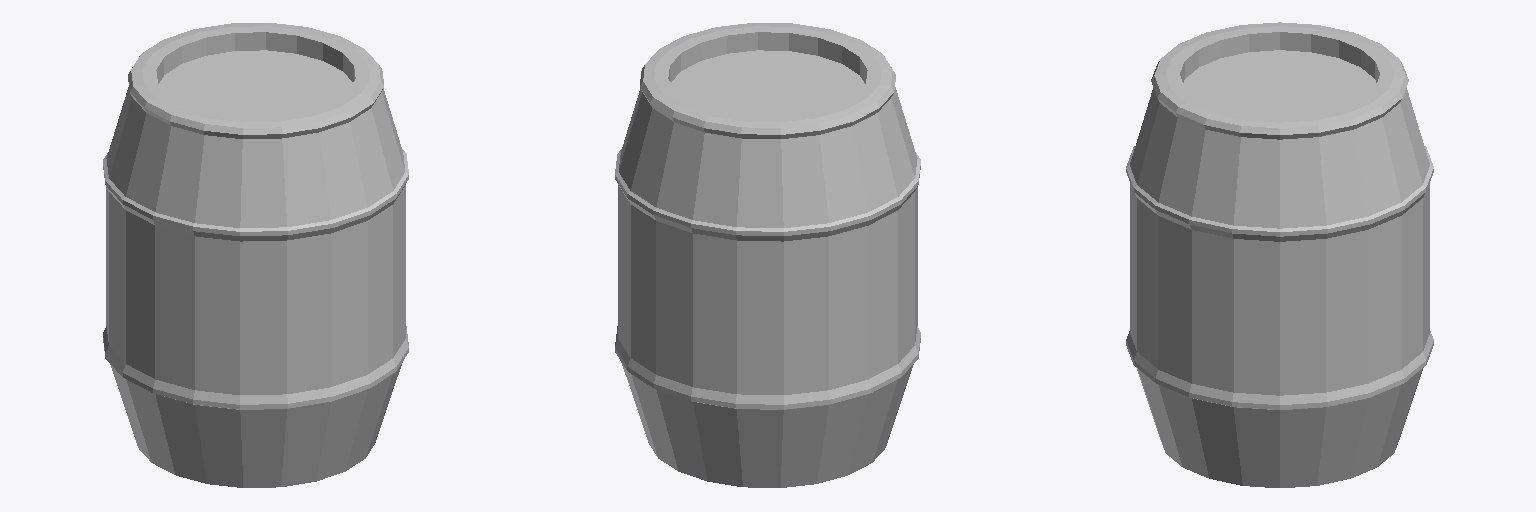
The model's file is Outline_Barrel_Geo.obj.
3 renders of one model, left to right at view 1: azimuth 30°, elevation 25°; view 2: azimuth 150°, elevation 25°; view 3: azimuth 270°, elevation 25°, orthographic.
Visible parts, largest first — view 1: Props_Barrel_Geo:pCylinder3; view 2: Props_Barrel_Geo:pCylinder3; view 3: Props_Barrel_Geo:pCylinder3.
Boxes of the visible parts, x1,y1,x2,y2 form: Props_Barrel_Geo:pCylinder3: [103, 23, 408, 487]; Props_Barrel_Geo:pCylinder3: [615, 23, 920, 487]; Props_Barrel_Geo:pCylinder3: [1126, 22, 1433, 487].
Size of the model in its own units: 0.7681 by 1 by 0.7681.